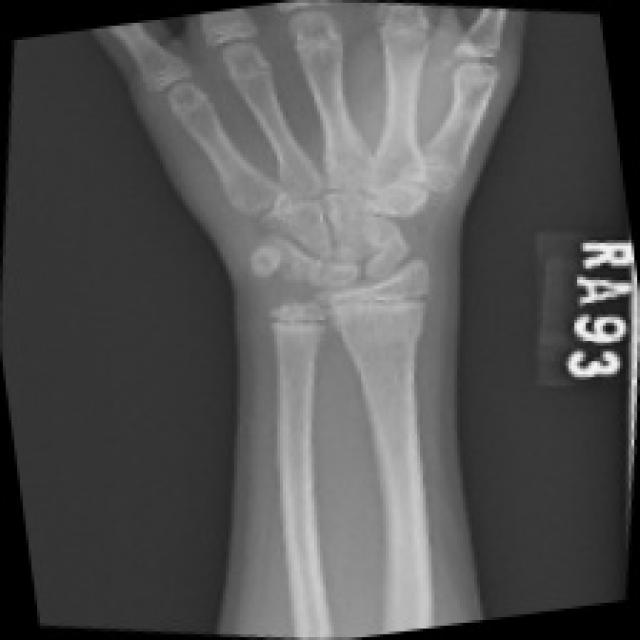fracture: (238, 212, 300, 292)
